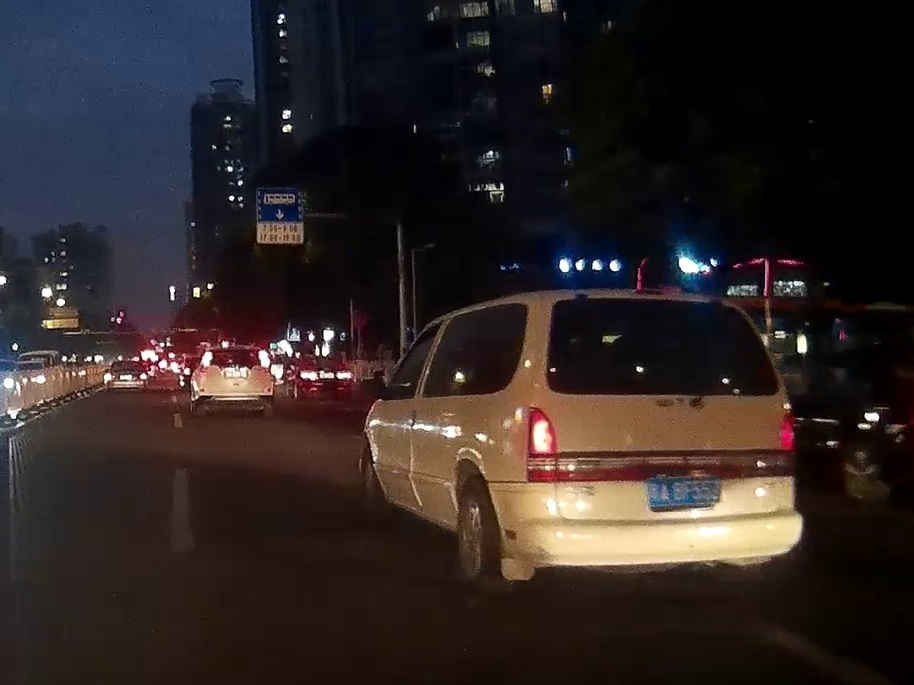L_light: (528, 406, 557, 483), (105, 373, 115, 379), (198, 367, 207, 372)
R_light: (778, 409, 794, 452), (138, 373, 146, 380), (261, 367, 270, 372)
T_light: (646, 299, 670, 307), (234, 351, 242, 353), (124, 362, 130, 364)
night-no: (520, 289, 803, 592), (195, 346, 274, 416), (105, 361, 146, 393)
